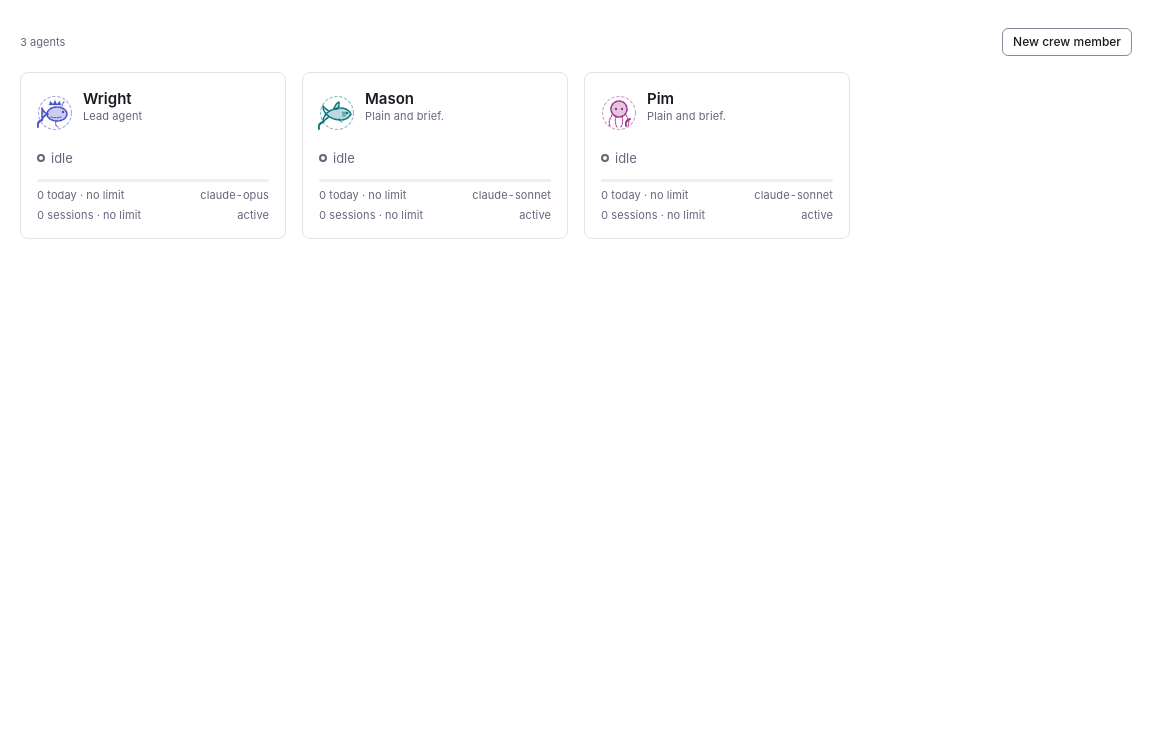
Test: the Connectors row › a rejected row reads not connected
The width and height of the screenshot is (1152, 732).
Click the button with test id "team-card" that starts with "Mason".
click(337, 113)  # box top-left (302, 72), bottom-right (568, 239)
(page scrolled)
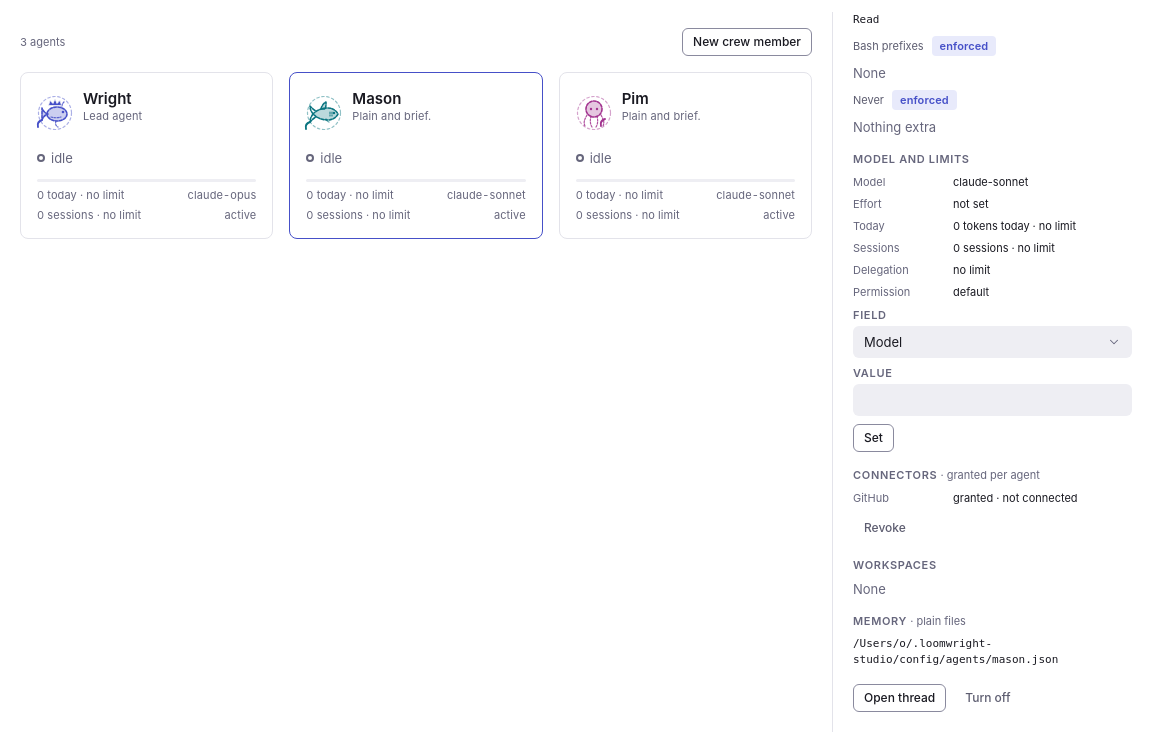
Expected: the text with test id "team-connector-state" reads "not connected", top-left (1003, 491), bottom-right (1078, 505)
